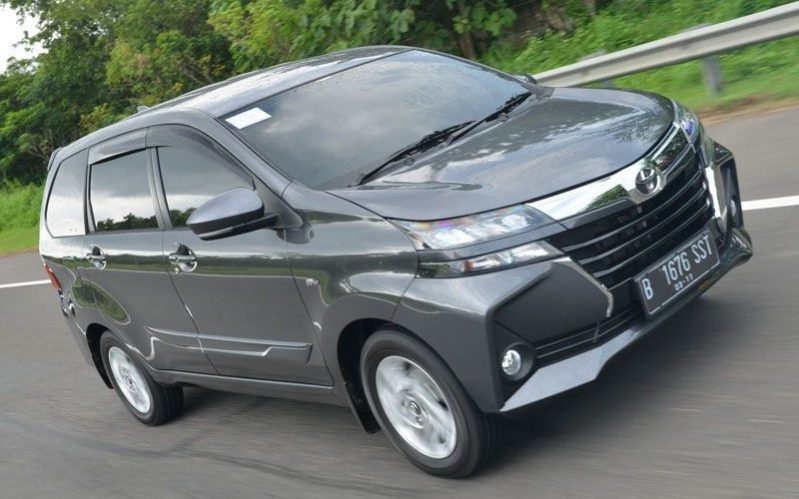plate: (635, 237, 725, 310)
